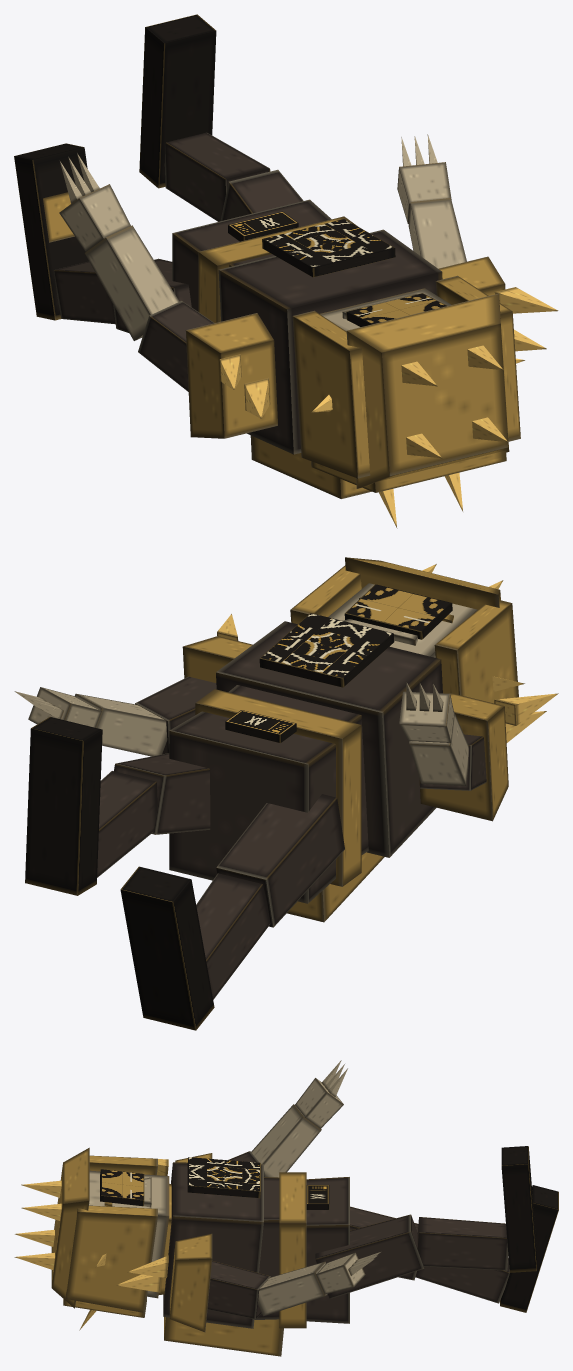
File: choraz_move.obj
3 views of the same model, one above another, from view 1: azimuth 30°, elevation 25°; view 2: azimuth 150°, elevation 25°; view 3: azimuth 270°, elevation 25° (orthographic). The views are drawn at different scales.
Visible parts, largest first — view 1: choraz_move; view 2: choraz_move; view 3: choraz_move.
Part boxes in pixels (box(x1,y1,x2,y2)): choraz_move: box(14, 14, 558, 528); choraz_move: box(14, 557, 558, 1030); choraz_move: box(14, 1060, 558, 1356).
Size of the model in its own units: 0.6291 by 0.4592 by 1.04.
Materials: 1 (1 with a texture image).
